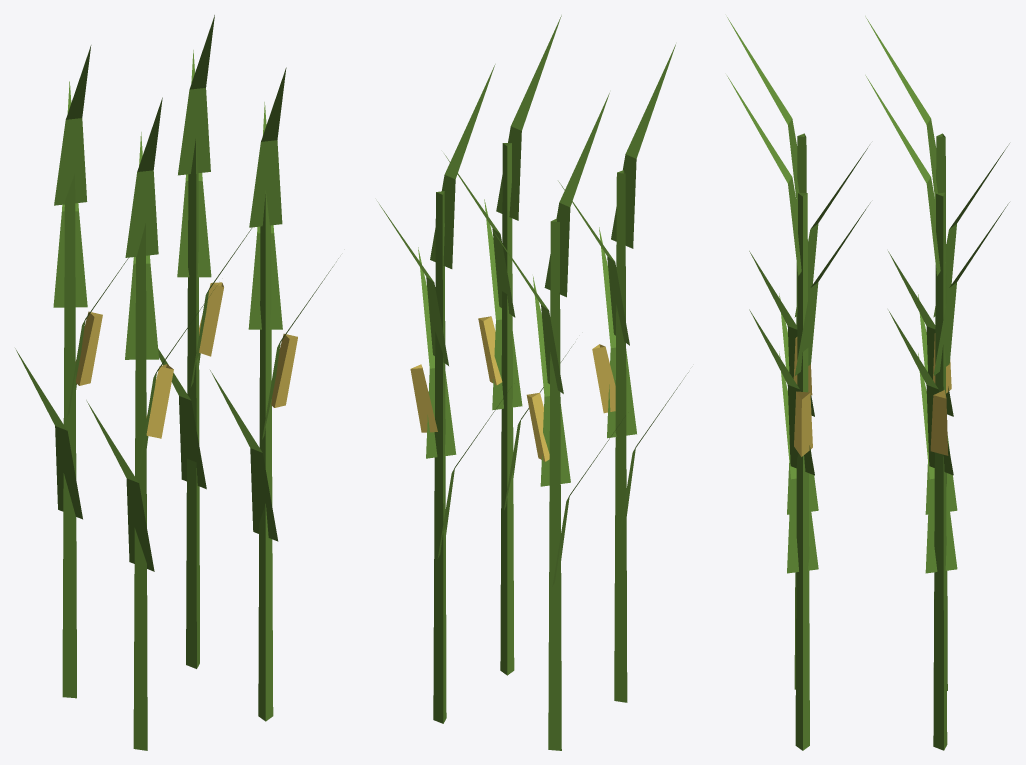
The model's file is mais.glb.
3 views of the same model, side by side, from view 1: azimuth 30°, elevation 25°; view 2: azimuth 150°, elevation 25°; view 3: azimuth 270°, elevation 25° (orthographic). The views are drawn at different scales.
Visible parts, largest first — view 1: mais; view 2: mais; view 3: mais.
Part boxes in pixels (x1=…): mais: x1=15, y1=15, x2=338, y2=750; mais: x1=377, y1=15, x2=688, y2=750; mais: x1=727, y1=16, x2=1009, y2=750.
Bounding box in the file's own units: 0.9909 × 2.65 × 1.03.
Materials: 1 (1 with a texture image).
